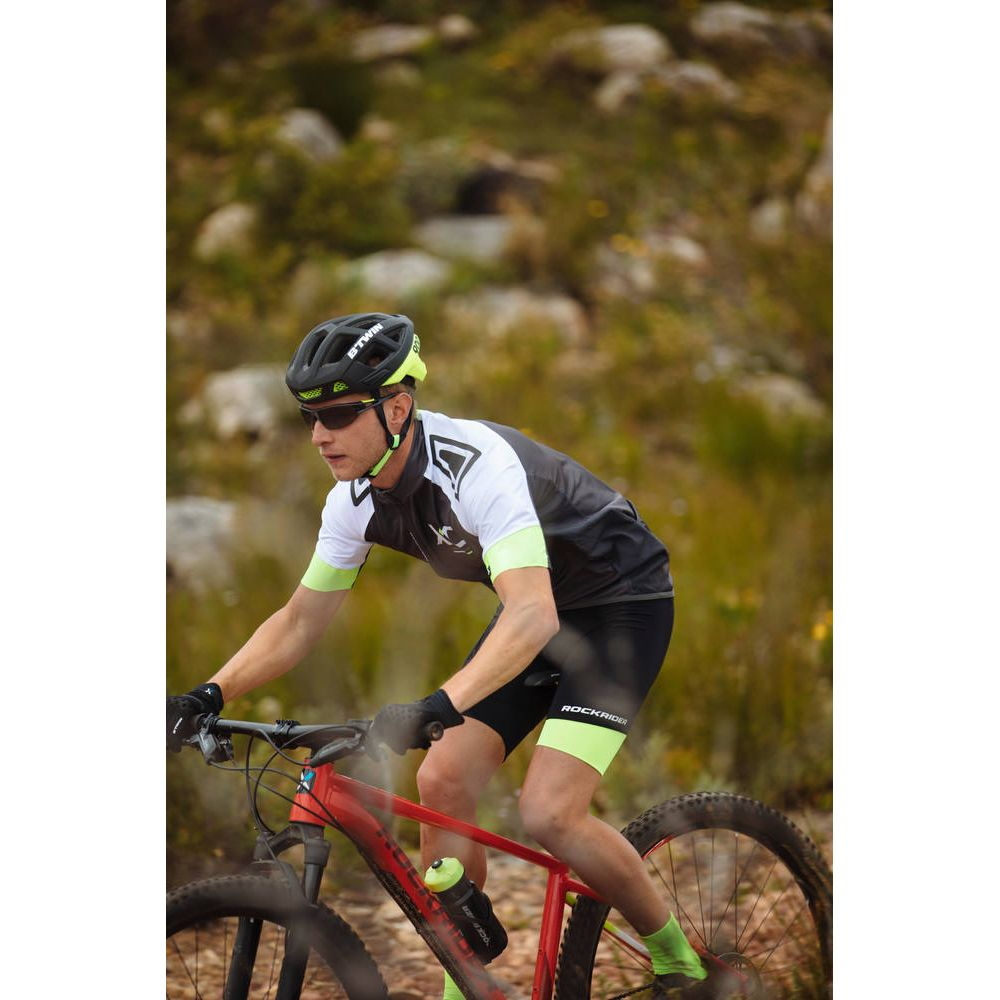RoadBike: (0, 125, 936, 992)
